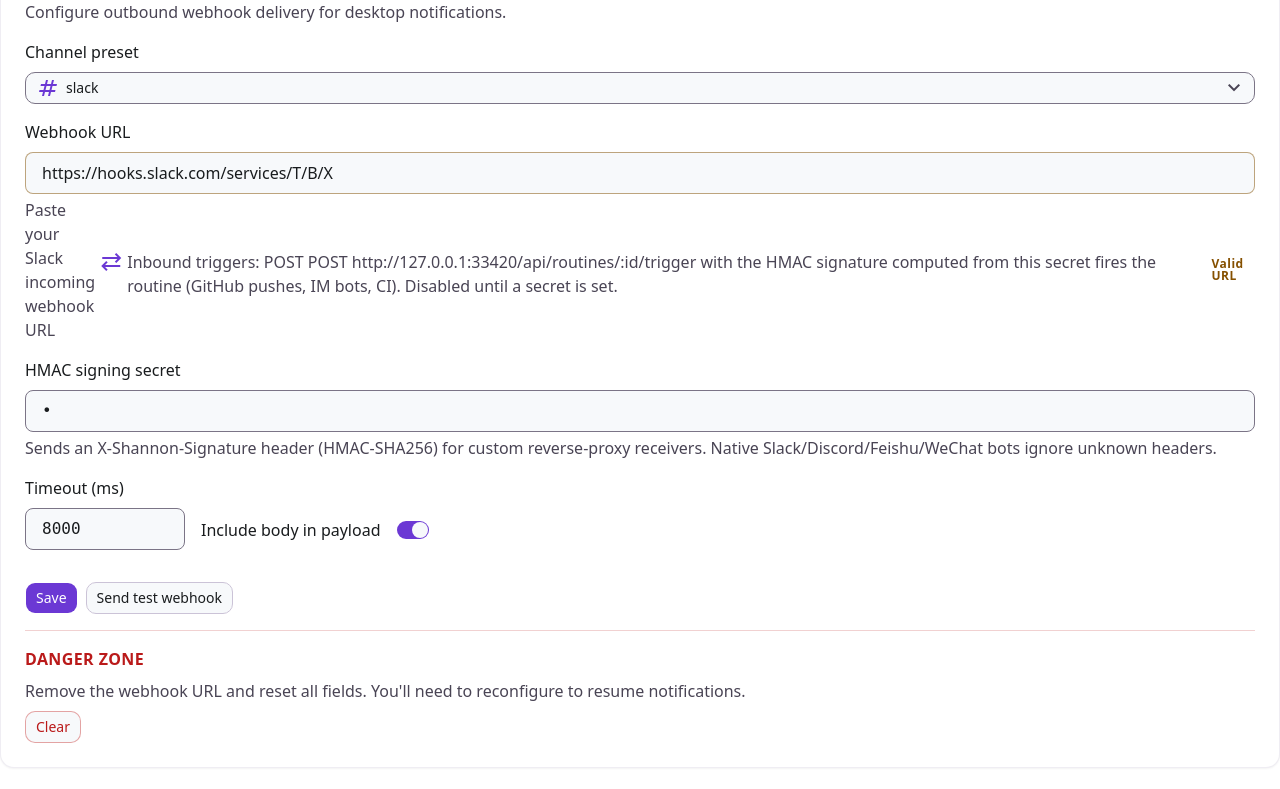
Test: NotificationsSettings — webhook clear › clears the form and toasts on success
(page scrolled)
Step 1. Click the button "Clear" → coordinates (53, 727), box [25,711,81,743]
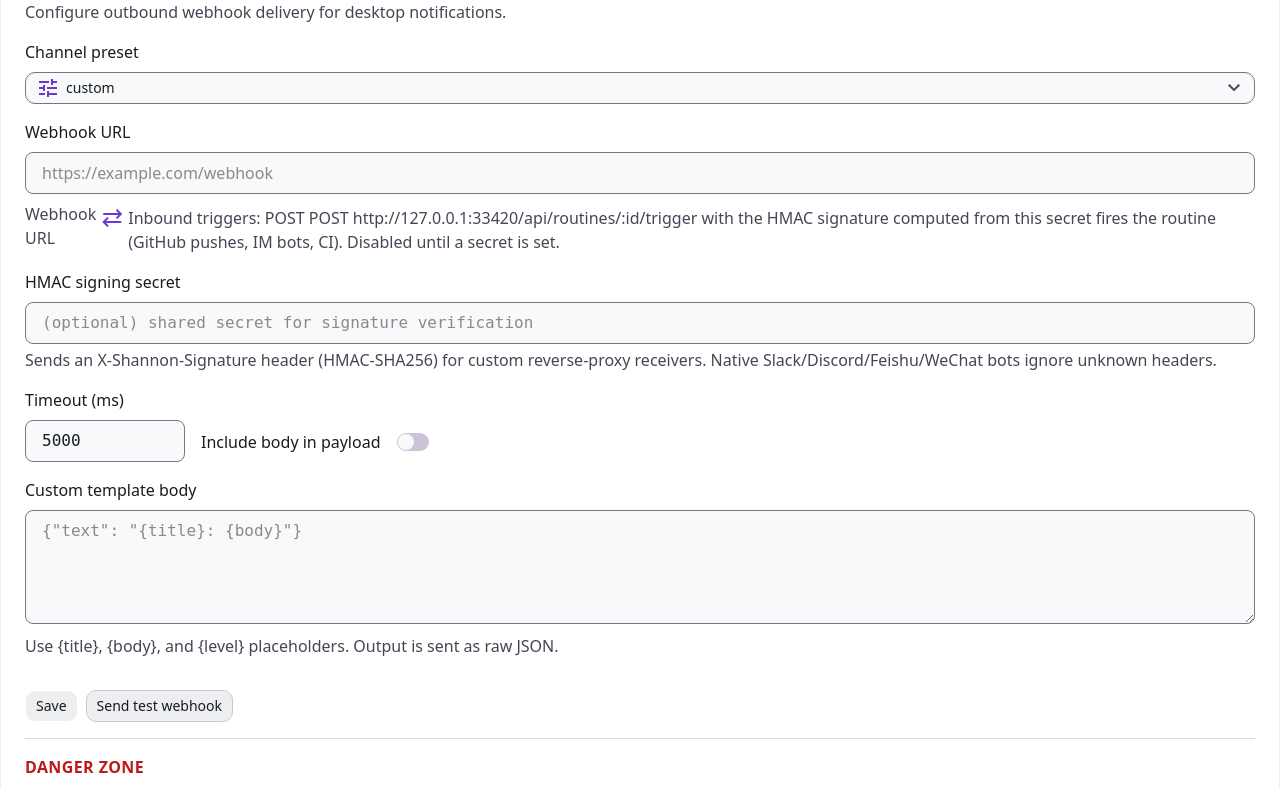
Now the field labelled "Webhook URL" is empty, box [25,152,1255,194]
